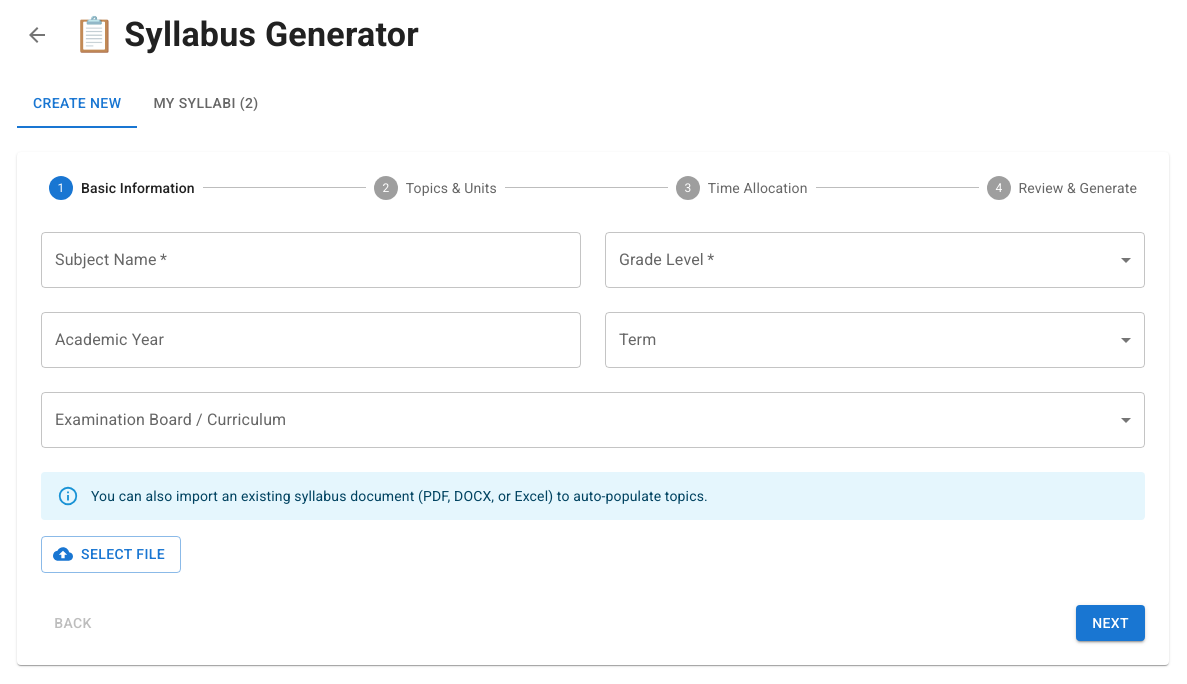
Test: SyllabusGenerator Component › shows review summary on final step
Type "Chemistry" into the field labelled "Subject Name *" at (311, 260), box [41,232,581,288]
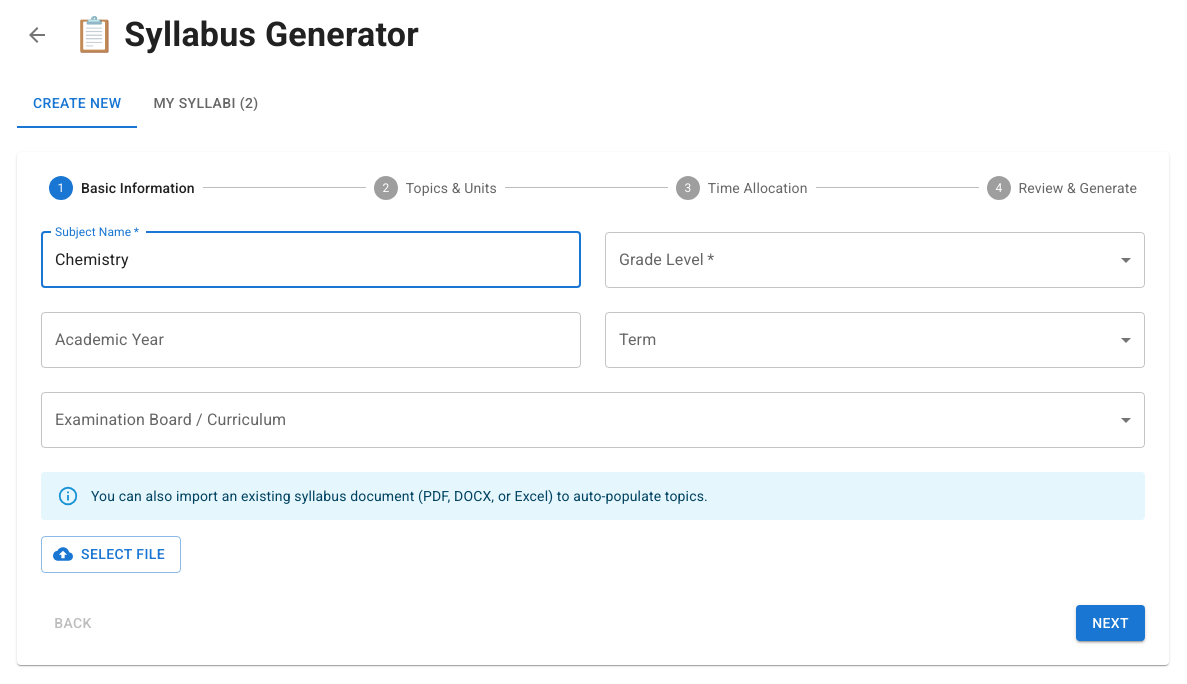
Click the button "Next" at (1111, 623), box [1076,604,1145,641]
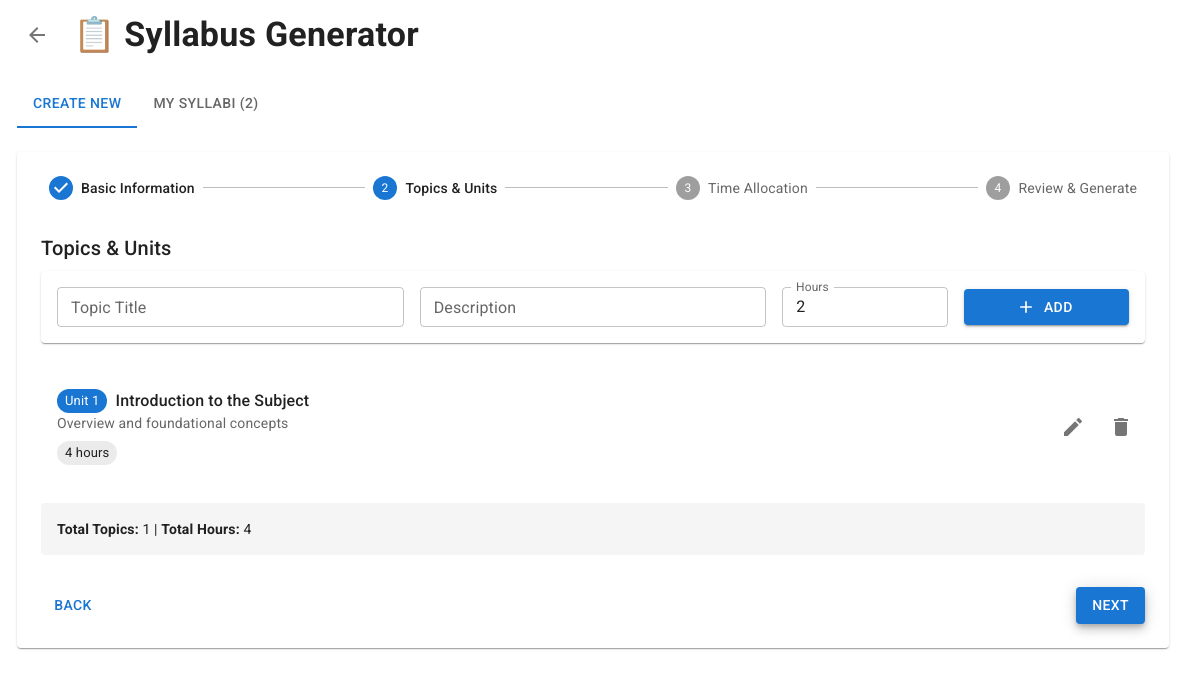
Click the button "Next" at (1111, 605), box [1076,587,1145,624]
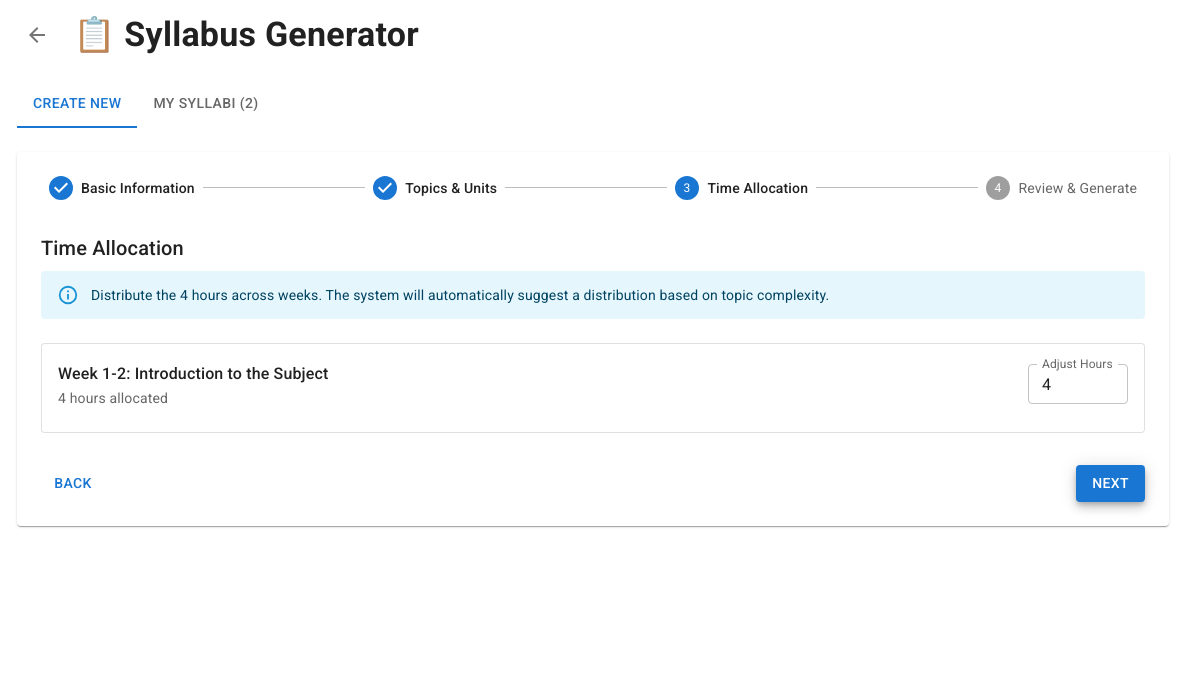
Click the button "Next" at (1111, 483), box [1076,465,1145,502]
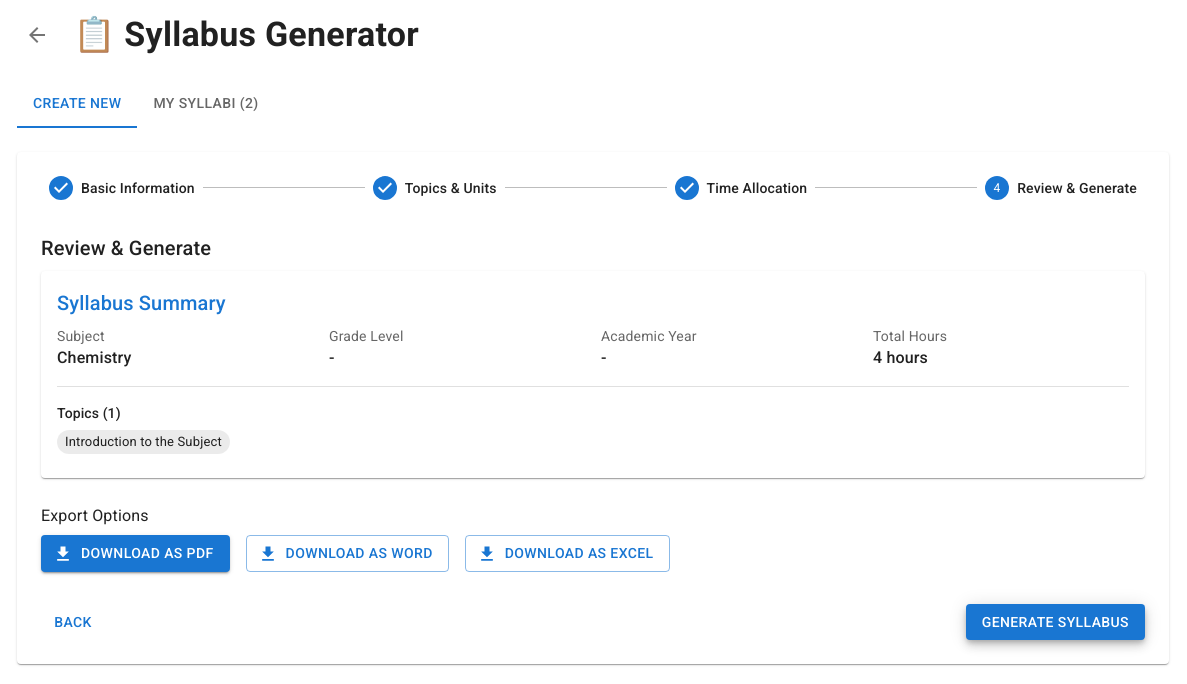
Now the heading "Syllabus Summary" is shown, box [57,291,226,315]
Now the text "Chemistry" is shown, box [57,348,132,367]
